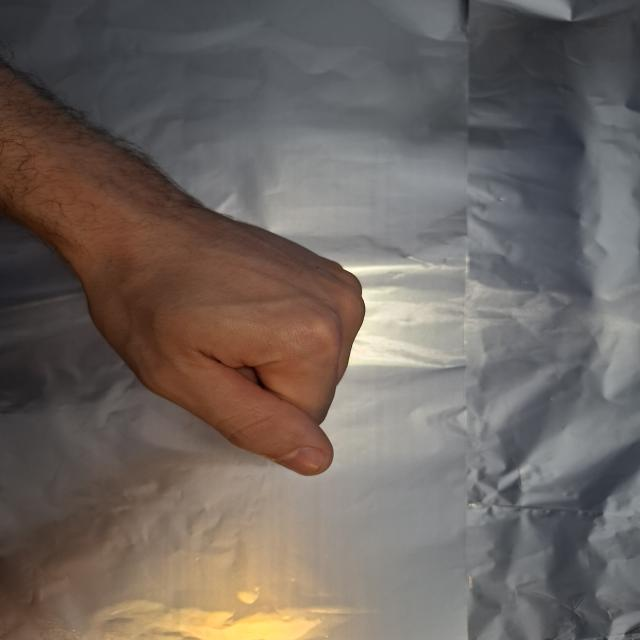glove_off: (43, 169, 369, 478)
